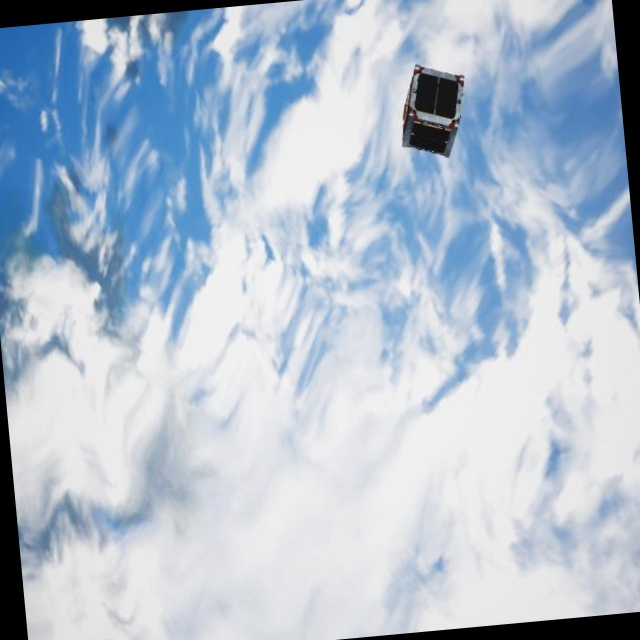satellite: (386, 54, 466, 160)
